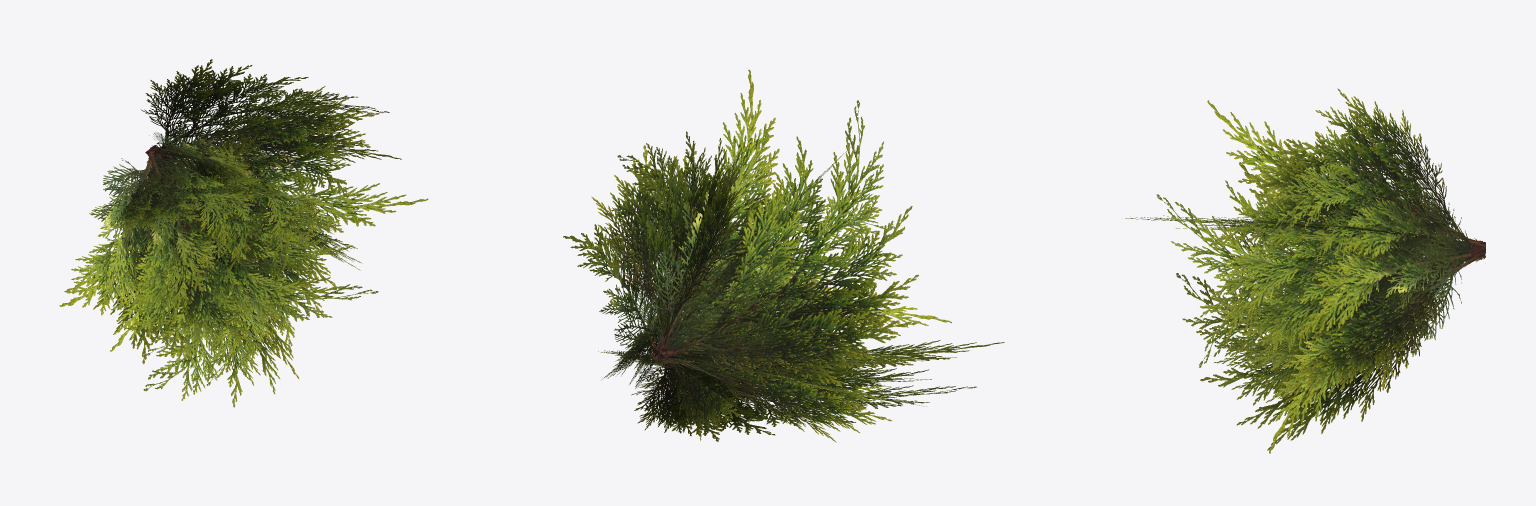
File: Bush_small_Keith.obj
The picture shows the model from 3 angles, left to right: view 1: azimuth 30°, elevation 25°; view 2: azimuth 150°, elevation 25°; view 3: azimuth 270°, elevation 25°; orthographic projection. The views are drawn at different scales.
Parts seen in each view (by area): view 1: Plane_Plane.001; view 2: Plane_Plane.001; view 3: Plane_Plane.001.
Part boxes in pixels (bbox=[...]): Plane_Plane.001: bbox=[59, 59, 428, 407]; Plane_Plane.001: bbox=[563, 69, 1004, 442]; Plane_Plane.001: bbox=[1125, 88, 1485, 453].
Bounding box in the file's own units: 399 × 383 × 303.
